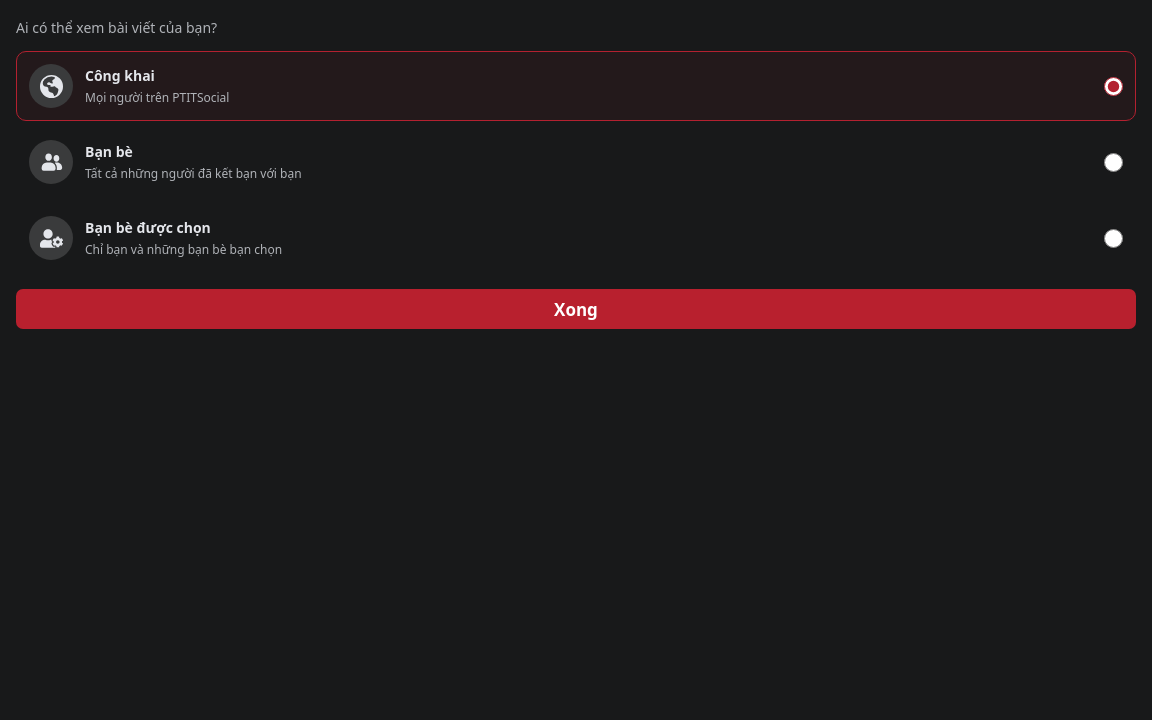
Test: offers three audiences and immediately lists accepted friends when selected
Click the radio button labelled "Bạn bè được chọn Chỉ bạn và những bạn bè bạn chọn": click(1114, 238) [1104,228,1123,248]
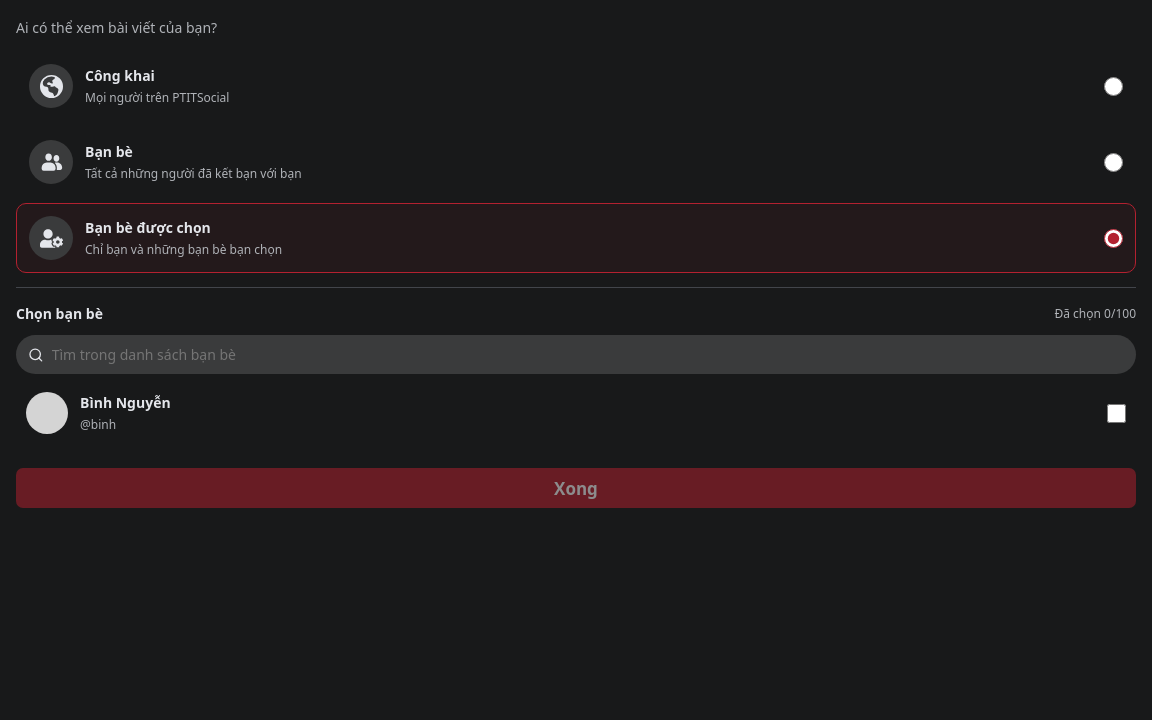
Expected: the checkbox labelled "Bình Nguyễn @binh" is shown
Expected: the button "Xong" is disabled, [16,468,1136,508]
Click the checkbox labelled "Bình Nguyễn @binh": click(1116, 413) [1107,404,1126,422]
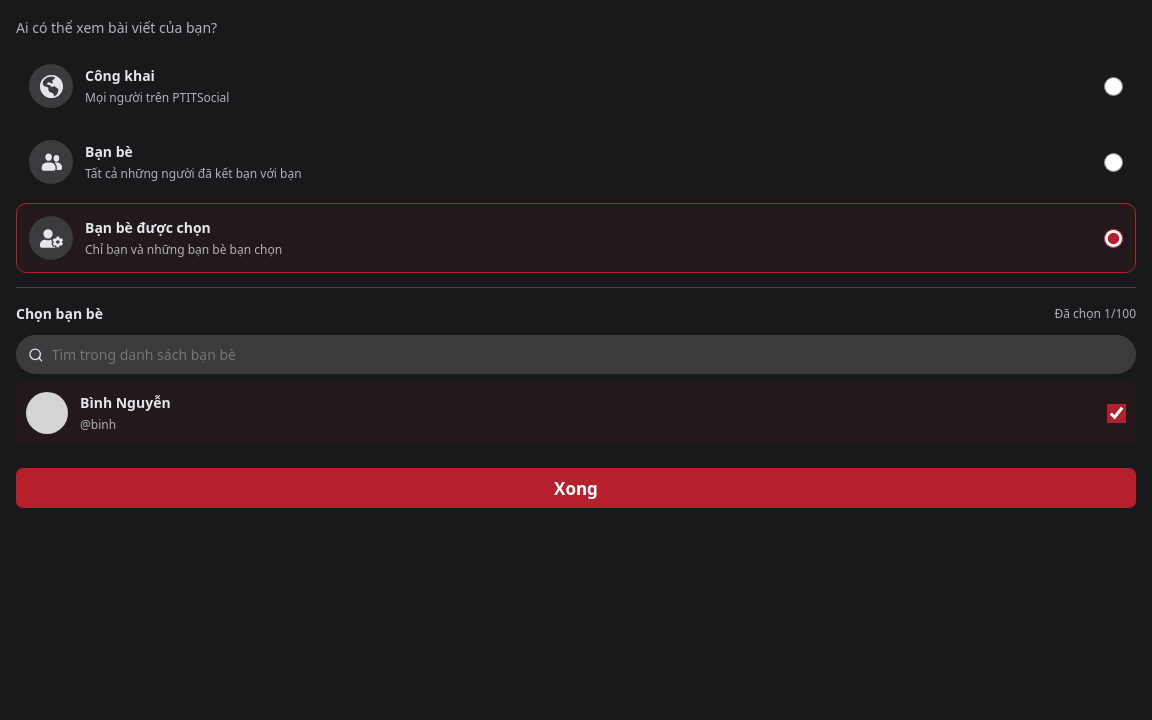
Expected: the button "Xong" is enabled, [16,468,1136,508]
Expected: the text "Đã chọn 1/100" is shown, [1054,305,1136,322]
In the field: (588, 354) [52,345,1124,364], type "binh"
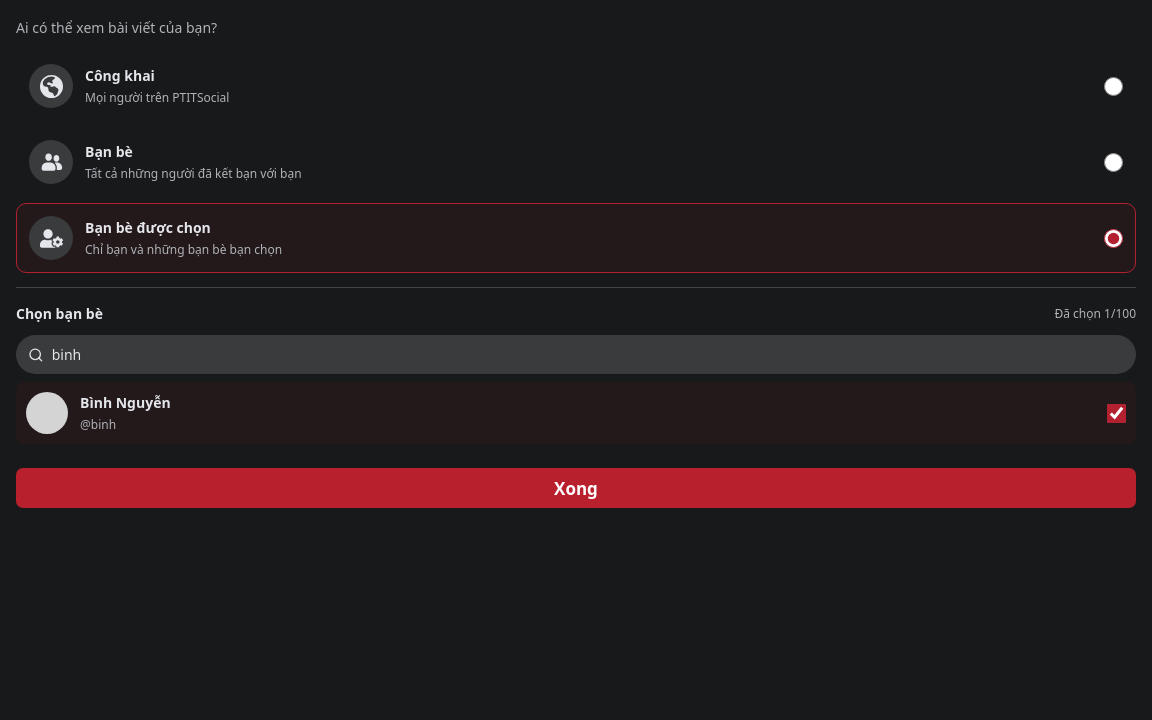
Expected: the checkbox labelled "Bình Nguyễn @binh" is checked, [1107,404,1126,422]
